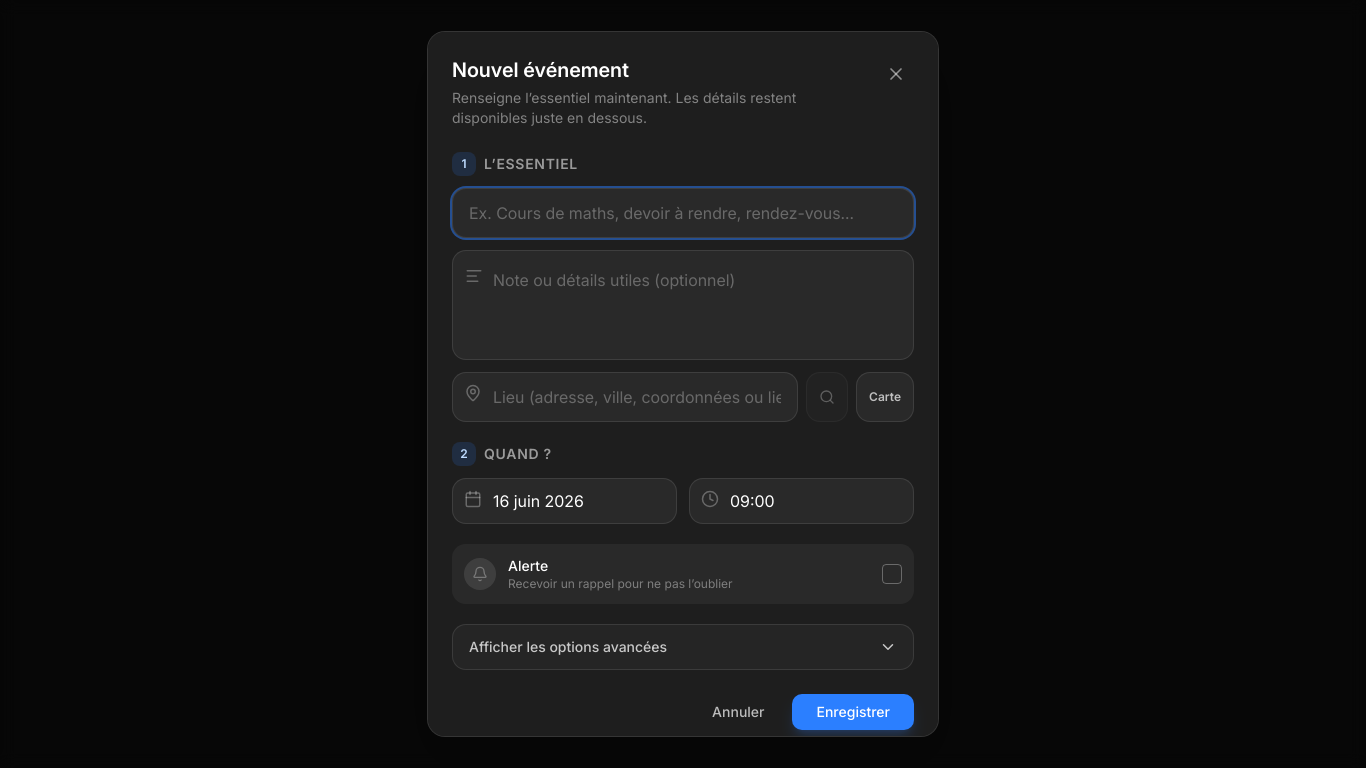
EventModal › shows a simple creation flow before advanced options
Expected: the heading "Nouvel événement" is shown, [452, 58, 629, 82]
Expected: the heading "L’essentiel" is shown, [484, 154, 578, 174]
Click the button "Afficher les options avancées": (568, 646) [452, 624, 914, 670]
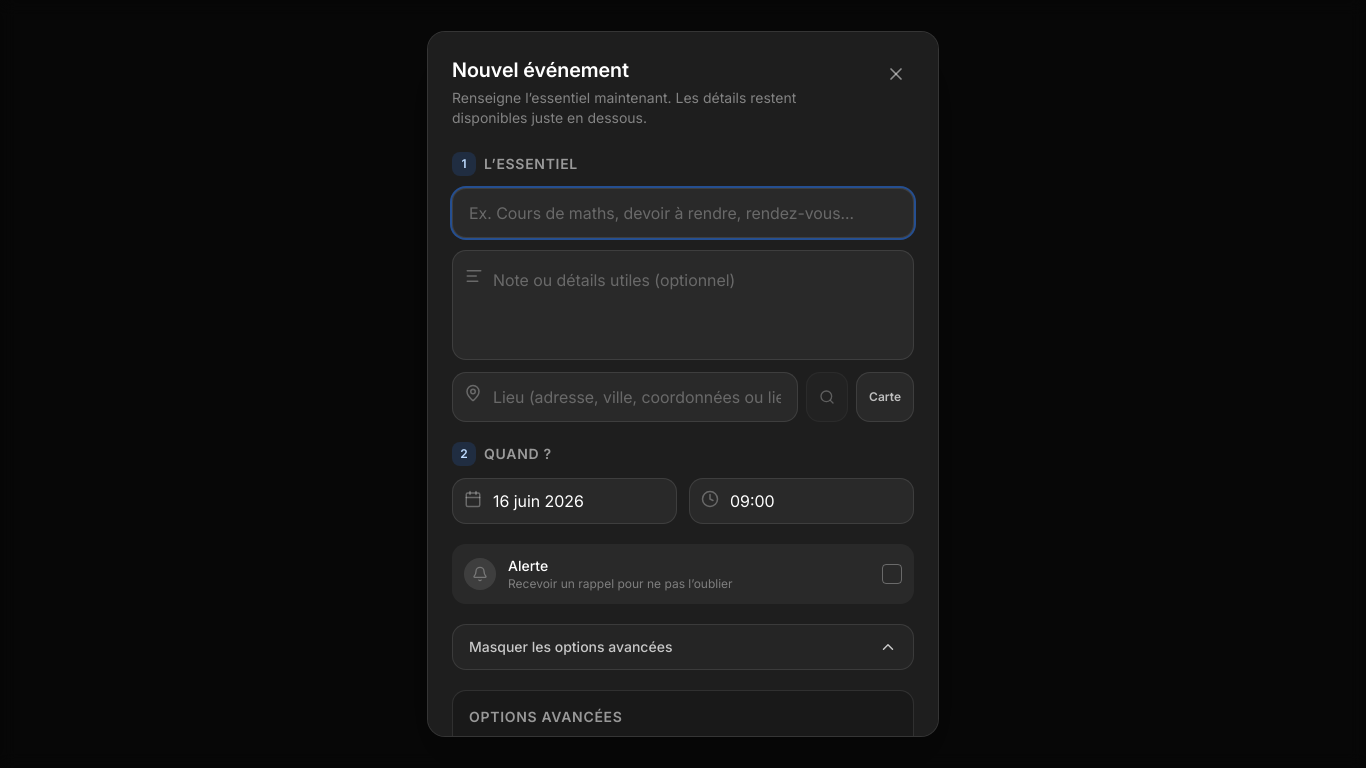
Now the heading "Options avancées" is shown, box [469, 708, 623, 725]
